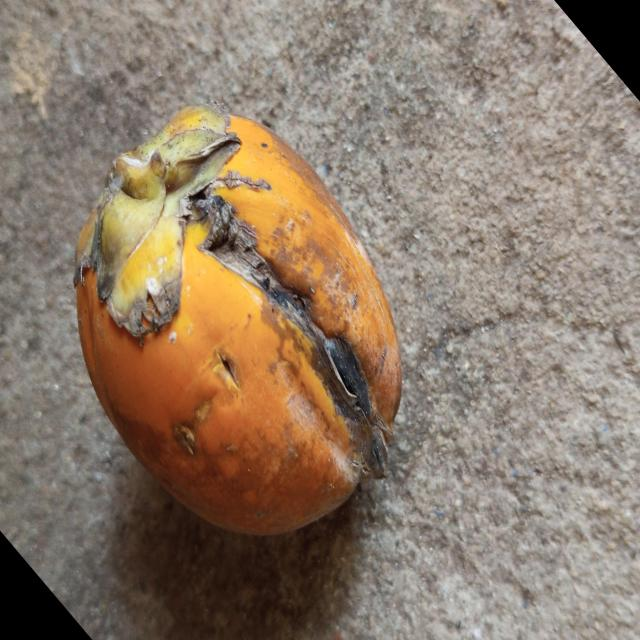damaged: (74, 106, 402, 534)
